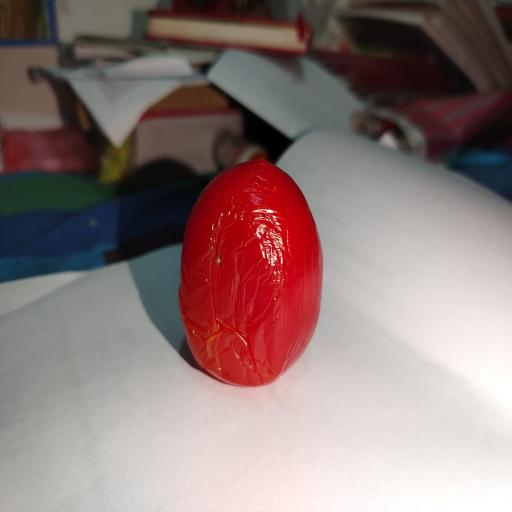spoiled: (179, 161, 322, 386)
